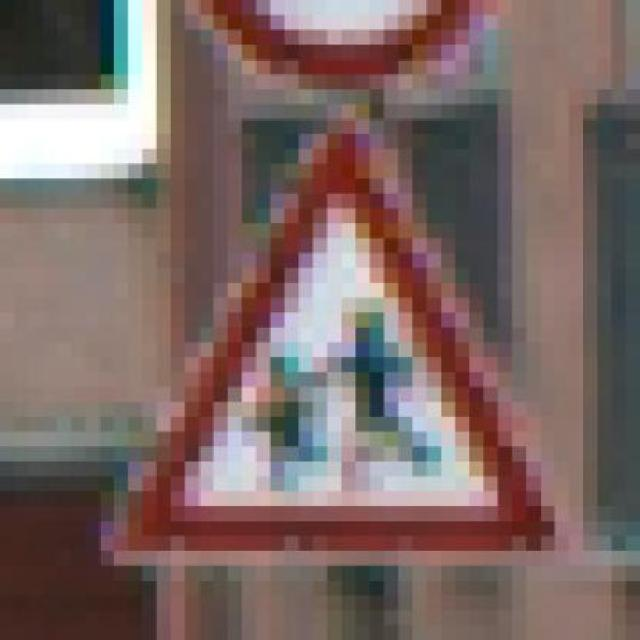Beware of children: (100, 120, 568, 566)
